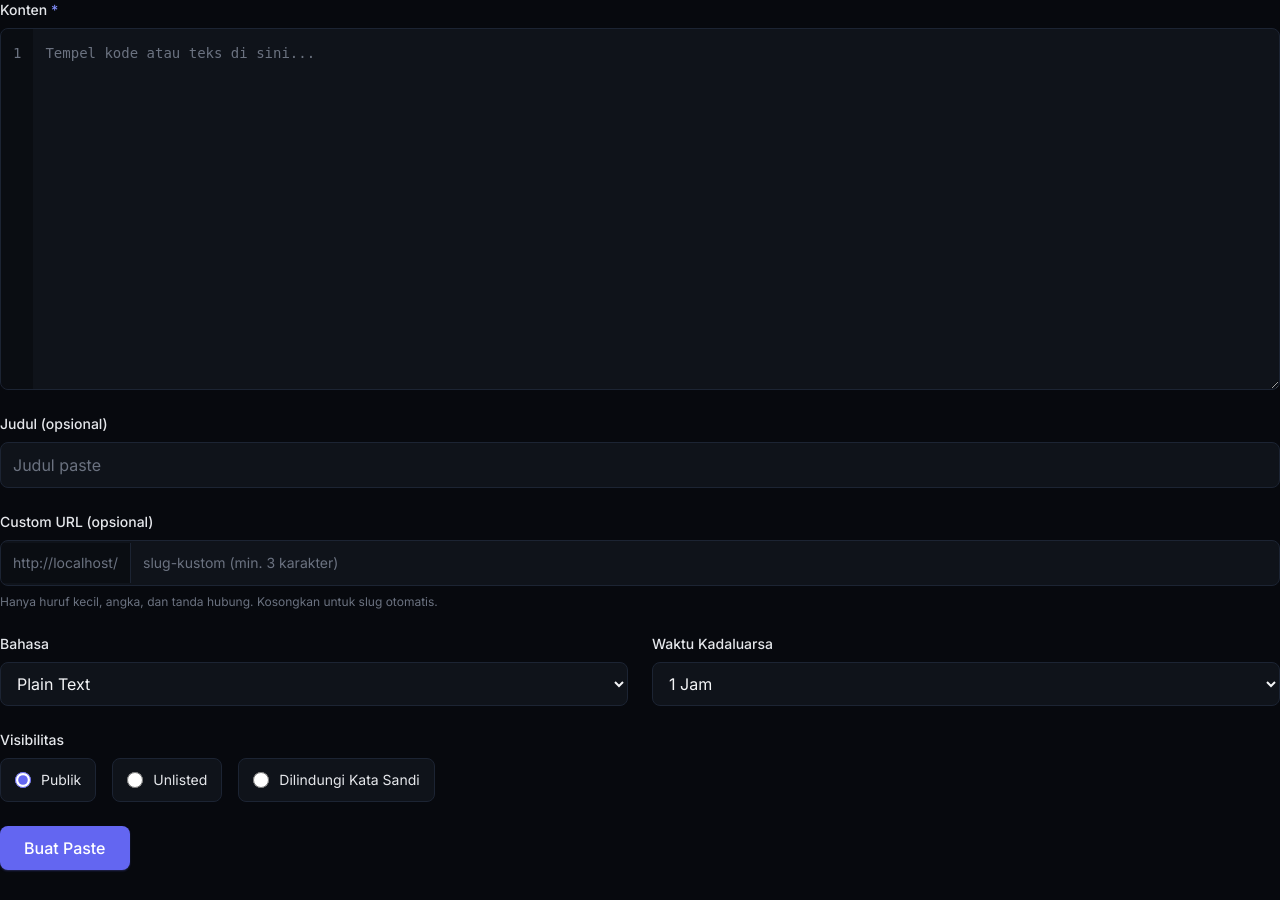
it: PasteForm › hides the password field until password_protected is selected (Req 2.3)
Click the radio button labelled "Dilindungi Kata Sandi" at {"x": 261, "y": 780}, box left=253, top=772, right=269, bottom=788
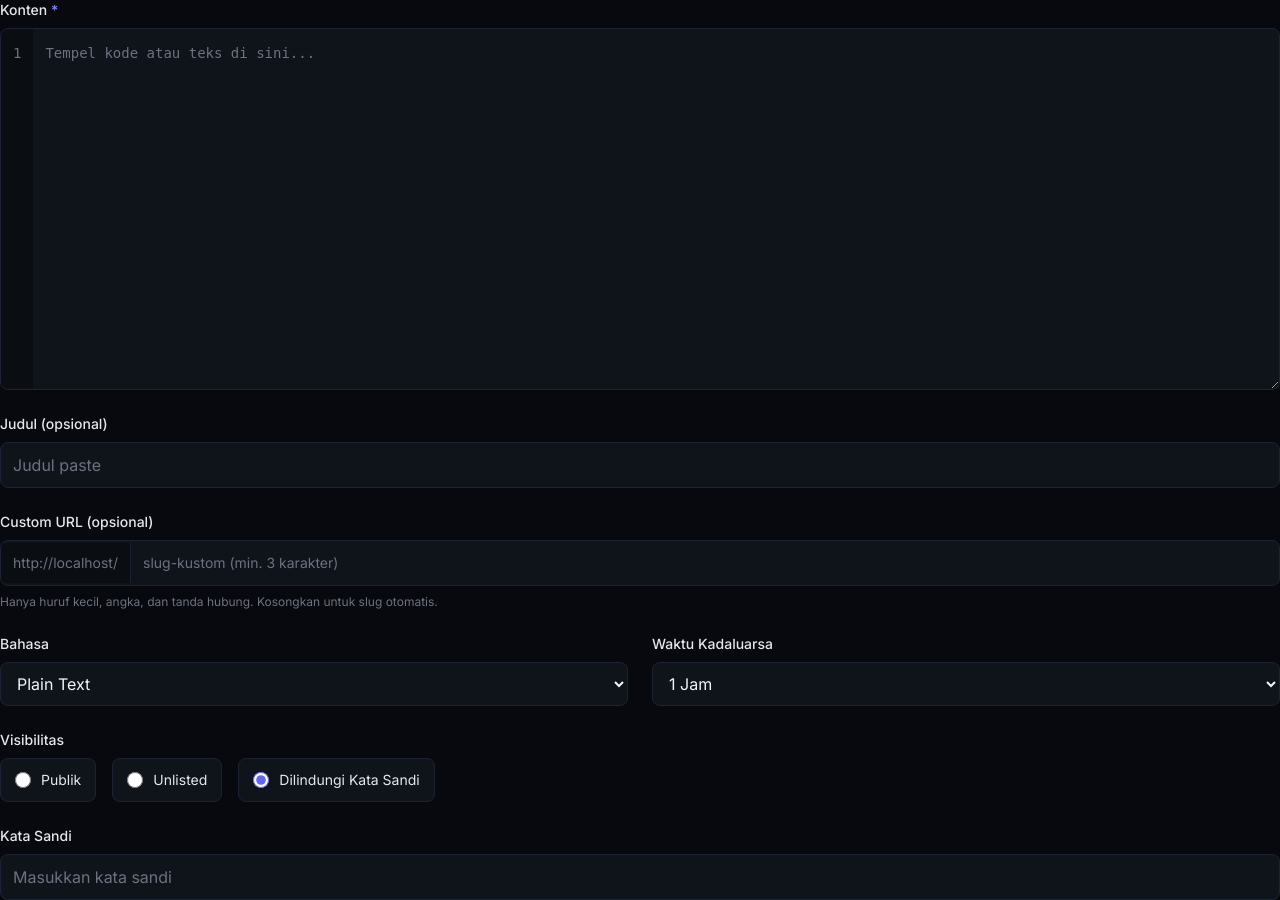
expect the password field labelled "Kata Sandi" is shown: met, box left=0, top=854, right=1279, bottom=899
